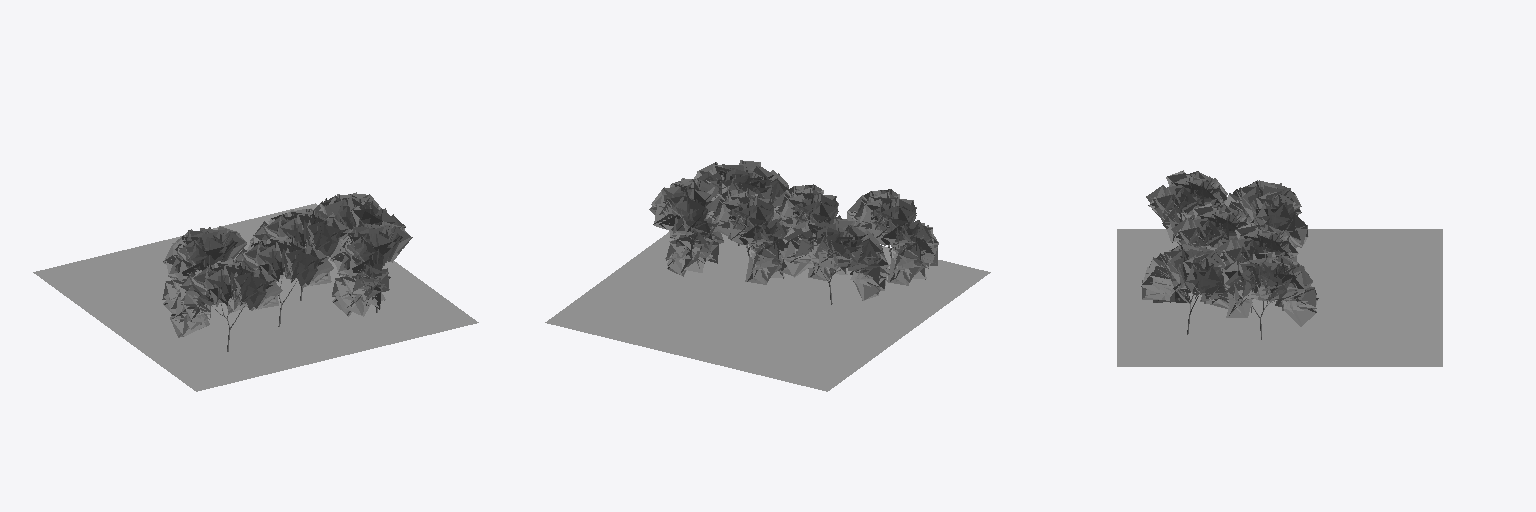
The model's file is field.obj.
The picture shows the model from 3 angles: view 1: azimuth 30°, elevation 25°; view 2: azimuth 150°, elevation 25°; view 3: azimuth 270°, elevation 25°; orthographic projection.
Visible parts, largest first — view 1: Plane, tree.002_tree.008, tree.003_tree.009, tree.001_tree.007, tree.000_tree.006, tree.005, tree.004_tree.010; view 2: Plane, tree.000_tree.006, tree.003_tree.009, tree.004_tree.010, tree.005, tree.001_tree.007, tree.002_tree.008; view 3: Plane, tree.004_tree.010, tree.002_tree.008, tree.000_tree.006, tree.003_tree.009, tree.001_tree.007, tree.005.
Boxes of the visible parts, x1,y1,x2,y2 form: Plane: [33, 203, 478, 391]; tree.002_tree.008: [330, 221, 412, 316]; tree.003_tree.009: [170, 260, 282, 351]; tree.001_tree.007: [226, 236, 333, 326]; tree.000_tree.006: [162, 226, 246, 317]; tree.005: [247, 209, 350, 300]; tree.004_tree.010: [310, 192, 405, 250]; Plane: [545, 232, 990, 391]; tree.000_tree.006: [777, 219, 889, 304]; tree.003_tree.009: [847, 189, 938, 285]; tree.004_tree.010: [649, 178, 723, 276]; tree.005: [706, 188, 790, 284]; tree.001_tree.007: [772, 184, 847, 280]; tree.002_tree.008: [694, 160, 788, 245]; Plane: [1117, 229, 1442, 366]; tree.004_tree.010: [1219, 252, 1318, 339]; tree.002_tree.008: [1141, 244, 1228, 334]; tree.000_tree.006: [1225, 180, 1308, 247]; tree.003_tree.009: [1146, 170, 1227, 242]; tree.001_tree.007: [1171, 203, 1250, 253]; tree.005: [1215, 223, 1298, 312].
Bounding box in the file's own units: 7.7 × 2.22 × 7.7.